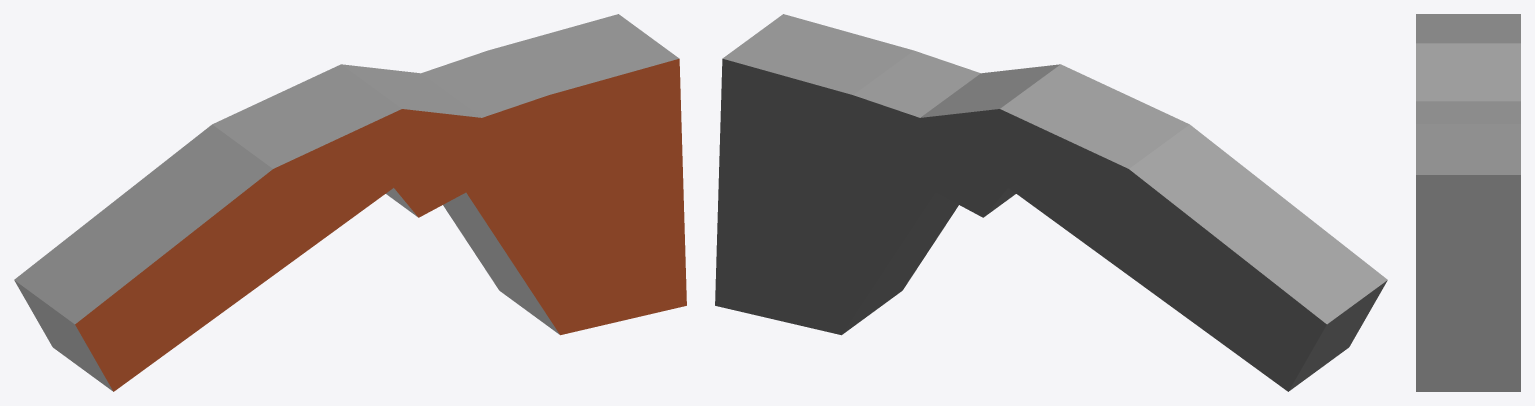
File: construction_6936_assumed_A_Casa_h6m.obj
3 views of the same model, side by side, from view 1: azimuth 30°, elevation 25°; view 2: azimuth 150°, elevation 25°; view 3: azimuth 270°, elevation 25° (orthographic). The views are drawn at different scales.
Parts seen in each view (by area): view 1: construction_6936_assumed_A_Casa; view 2: construction_6936_assumed_A_Casa; view 3: construction_6936_assumed_A_Casa.
Part boxes in pixels (x1,y1,x2,y2): construction_6936_assumed_A_Casa: [14, 14, 686, 391]; construction_6936_assumed_A_Casa: [715, 14, 1387, 391]; construction_6936_assumed_A_Casa: [1416, 14, 1520, 391].
Bounding box in the file's own units: 34.77 × 14.46 × 6.
